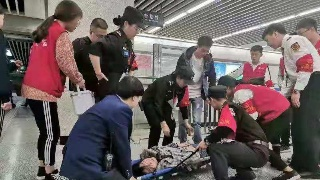fall: (127, 134, 219, 180)
